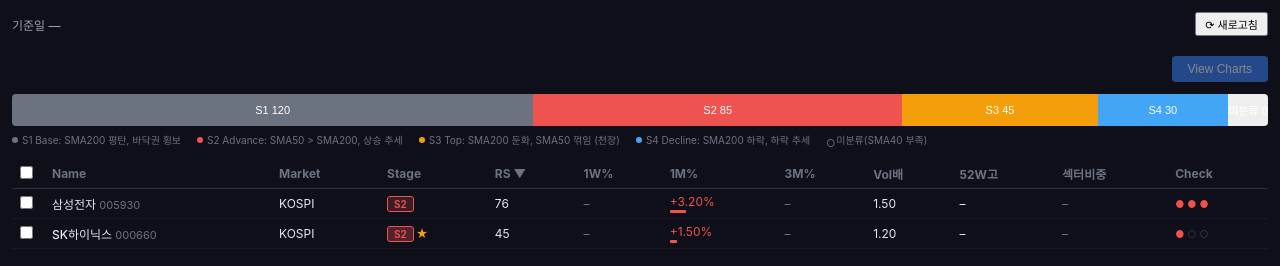
Test case: StockExplorer › should enable View Charts button when stocks are selected
This screenshot has width=1280, height=266.
Expected: the text "삼성전자" is shown, [52,197,96,212]
Expected: the button "View Charts" is disabled, [1172,56,1268,82]
Select a stock (checkboxes[0] is header "select all", checkboxes[1] is first stock row)
Click the checkbox named "Select 삼성전자": x=26, y=202 [20,196,33,208]
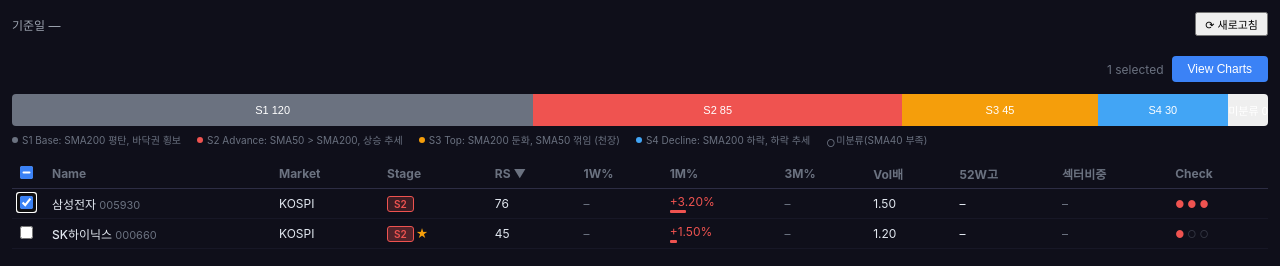
Expected: the button "View Charts" is enabled, [1172,56,1268,82]
